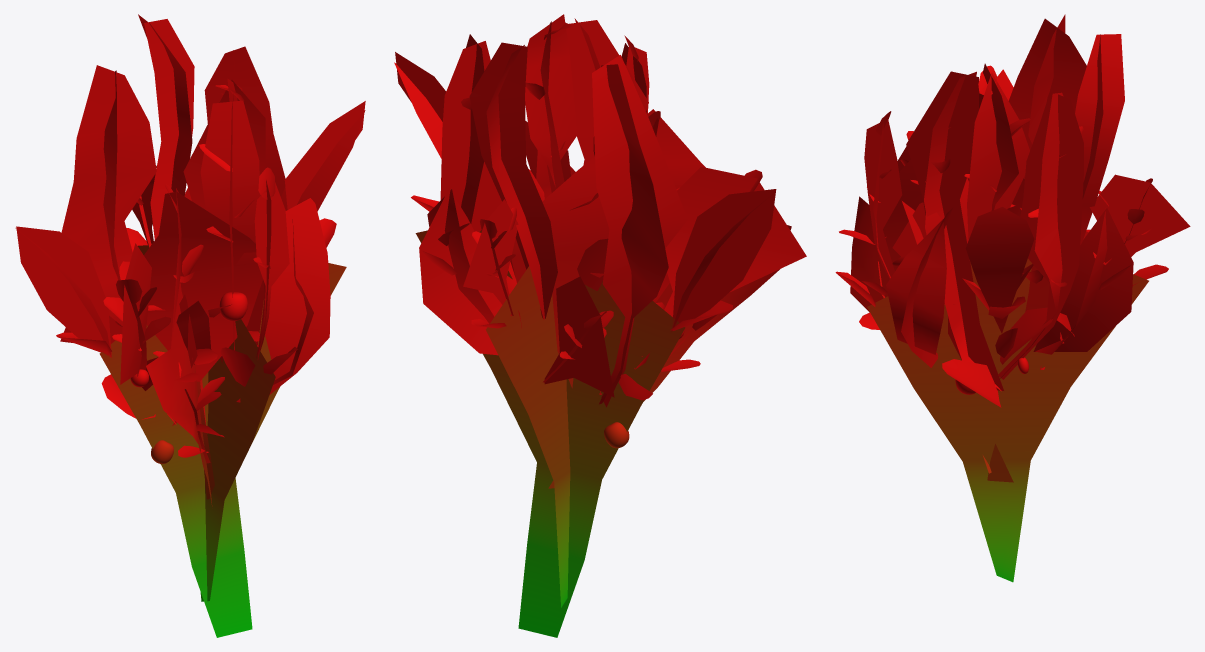
File: Bilberry_LOD0_Var2_vldufeiha.fbx
The picture shows the model from 3 angles, left to right: view 1: azimuth 30°, elevation 25°; view 2: azimuth 150°, elevation 25°; view 3: azimuth 270°, elevation 25°; orthographic projection. The views are drawn at different scales.
Visible parts, largest first — view 1: _7doy_Var2_LOD0; view 2: _7doy_Var2_LOD0; view 3: _7doy_Var2_LOD0.
Part boxes in pixels (x1,y1,x2,y2): _7doy_Var2_LOD0: (15, 14, 365, 637); _7doy_Var2_LOD0: (394, 14, 806, 637); _7doy_Var2_LOD0: (835, 14, 1190, 582).
Bounding box in the file's own units: 14.17 × 22.54 × 12.56.
